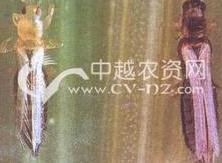Thripidae: (1, 1, 65, 155), (171, 1, 222, 163)
